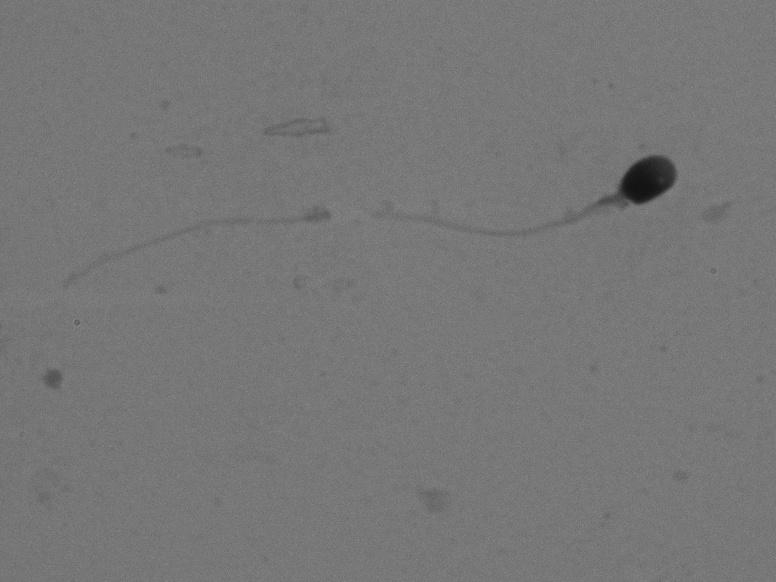Abnormal: (41, 135, 685, 333)
